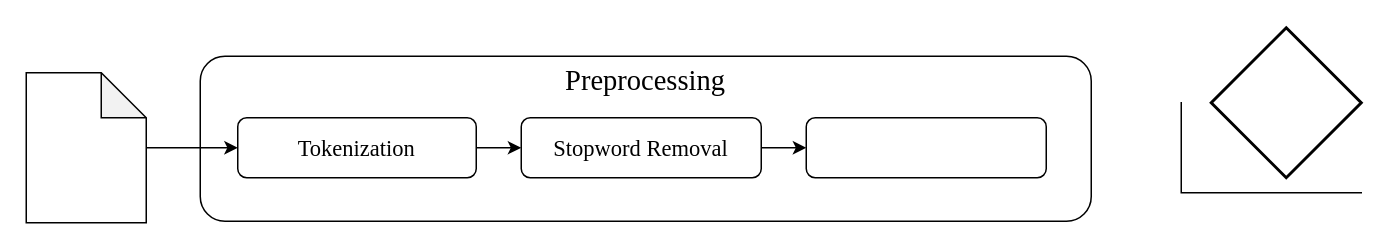
Some shapes in this 1389 by 249 pixel diagram are drawn without their labels. The shapes that lost their labels are listed below. From the top down, each one's centre as x and y in pixels, then its label:
At point (85, 147): "Input Document".
At point (925, 147): "Vector Embedding".
